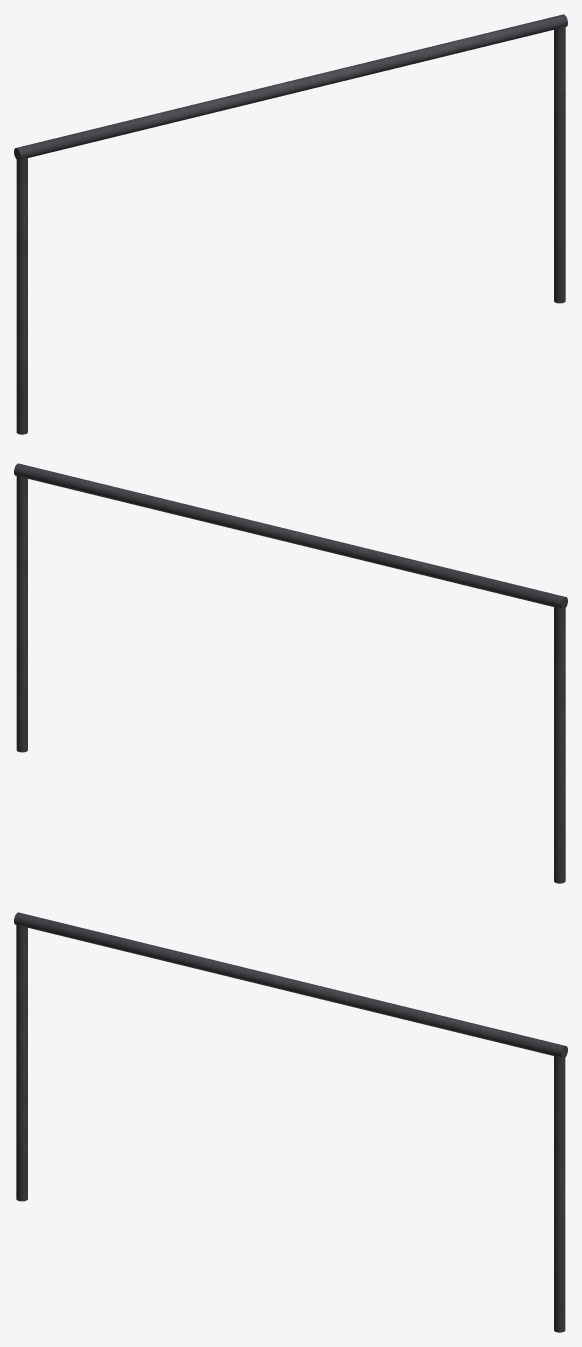
File: Fence_Chainlink_.fbx
3 renders of one model, top to bottom at view 1: azimuth 30°, elevation 25°; view 2: azimuth 150°, elevation 25°; view 3: azimuth 330°, elevation 25°, orthographic.
Visible parts, largest first — view 1: MId_Post, Post_Right, Post_Left; view 2: MId_Post, Post_Right, Post_Left; view 3: MId_Post, Post_Left, Post_Right.
Boxes of the visible parts, <box> form: MId_Post: <box>14,14,567,160</box>; Post_Right: <box>554,26,565,303</box>; Post_Left: <box>16,157,27,434</box>; MId_Post: <box>14,463,567,609</box>; Post_Right: <box>16,475,27,752</box>; Post_Left: <box>554,606,565,883</box>; MId_Post: <box>14,912,567,1058</box>; Post_Left: <box>16,924,27,1201</box>; Post_Right: <box>554,1055,565,1332</box>.
Bounding box in the file's own units: 98.5 × 48.99 × 2.
Materials: 1 (1 with a texture image).
